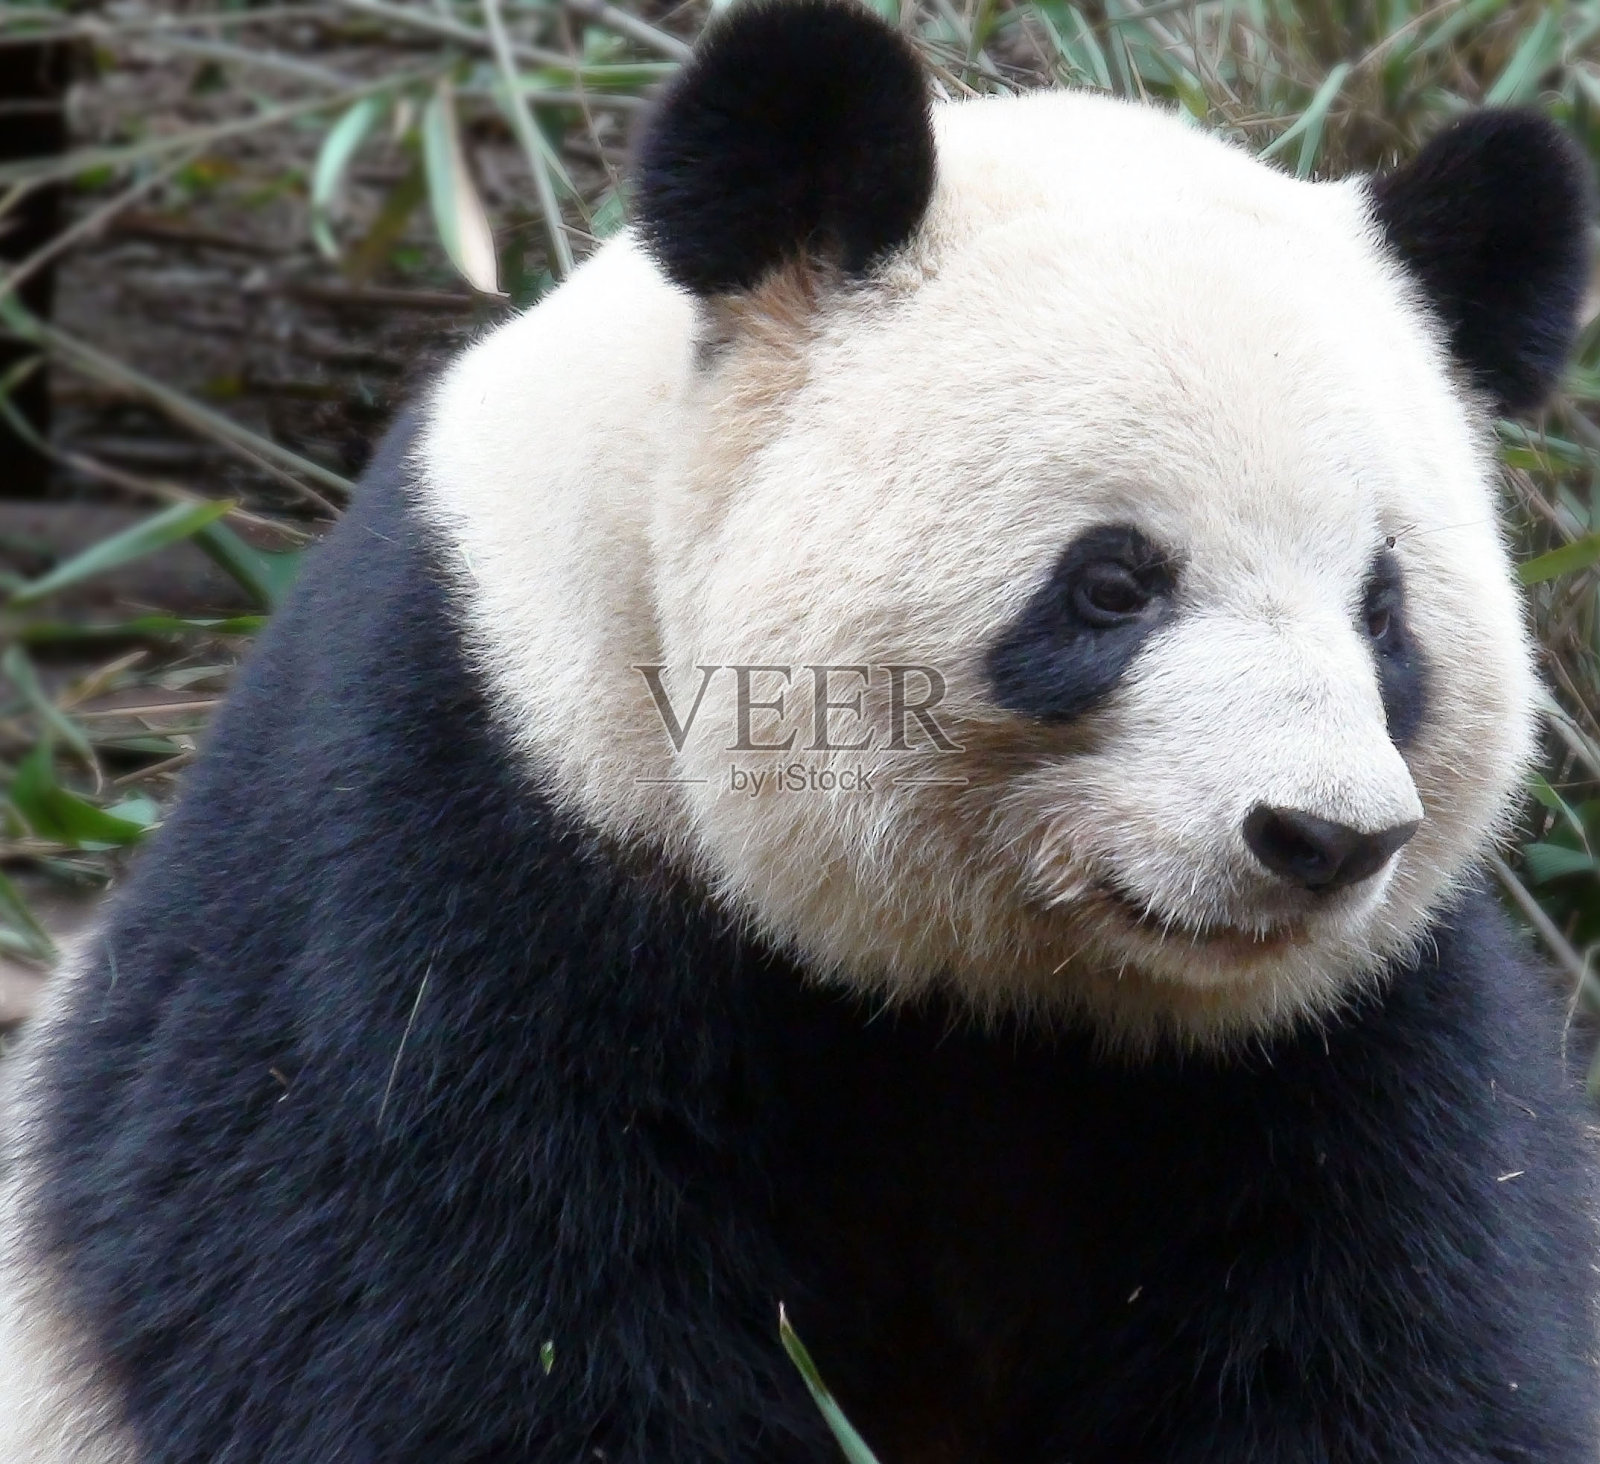panda: (111, 31, 1562, 1436)
